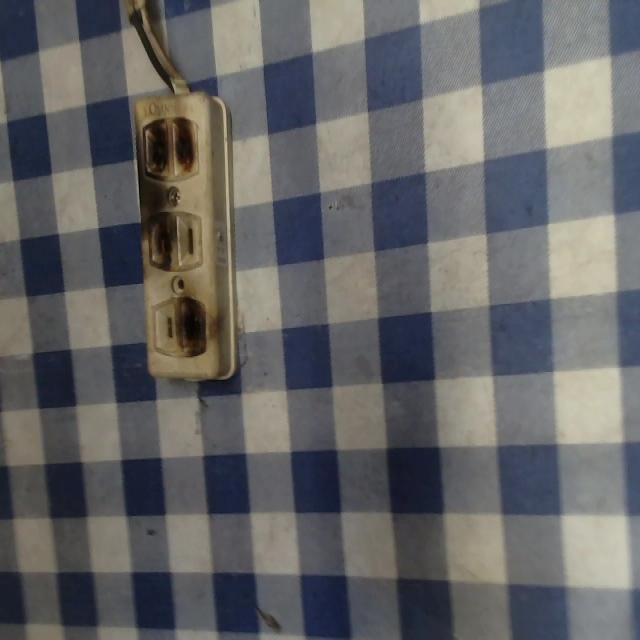-: (137, 111, 204, 181), (145, 207, 176, 268), (177, 295, 209, 353)
